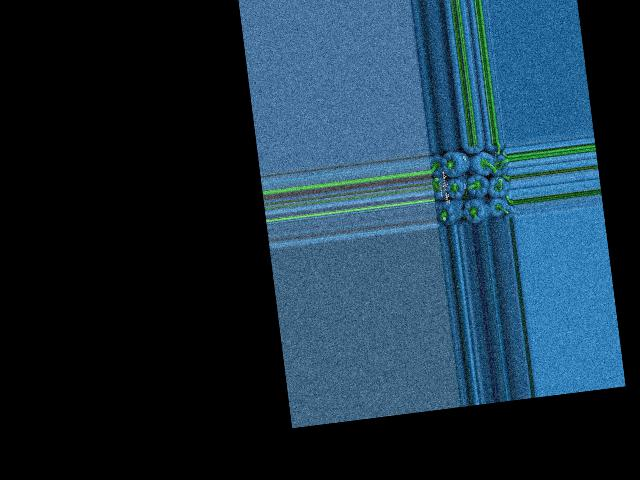bell_pepper: (428, 150, 447, 179)
